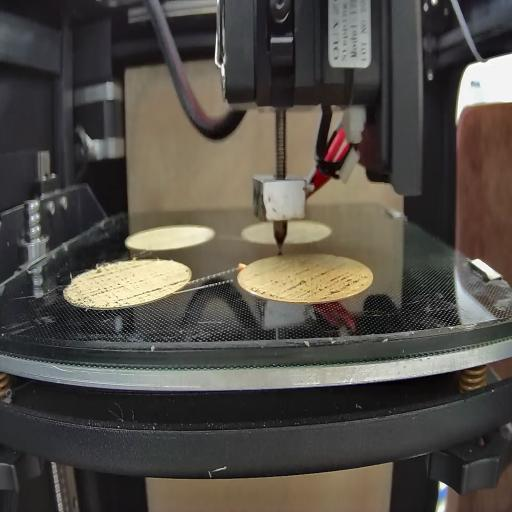under_extrusion: (246, 267, 368, 301), (71, 264, 164, 308), (168, 270, 189, 290)
